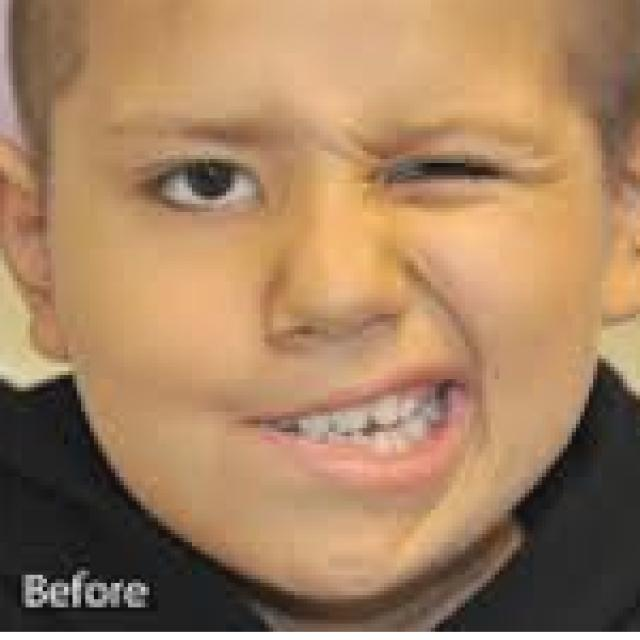stroke_face: (68, 12, 566, 597)
